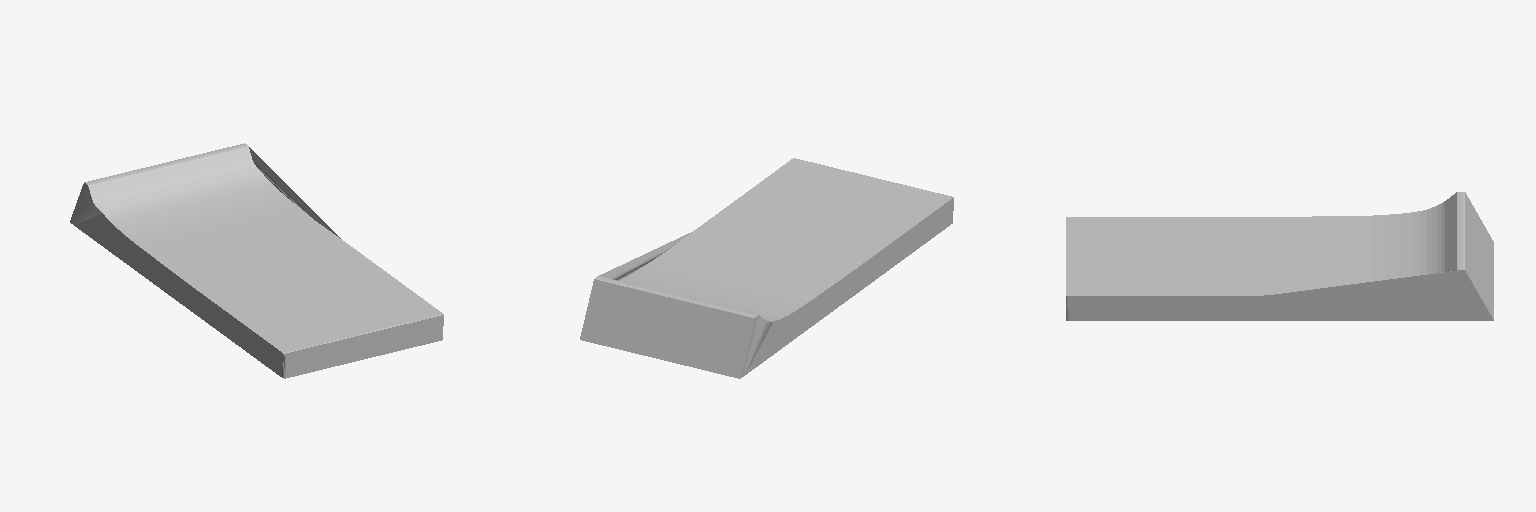
File: manny.obj
3 renders of one model, left to right at view 1: azimuth 30°, elevation 25°; view 2: azimuth 150°, elevation 25°; view 3: azimuth 270°, elevation 25°, orthographic.
Visible parts, largest first — view 1: Cube.005; view 2: Cube.005; view 3: Cube.005.
Boxes of the visible parts, x1=… form: Cube.005: x1=70, y1=143, x2=443, y2=378; Cube.005: x1=580, y1=158, x2=953, y2=378; Cube.005: x1=1066, y1=192, x2=1493, y2=320.
Bounding box in the file's own units: 2.2 × 0.6552 × 5.02.